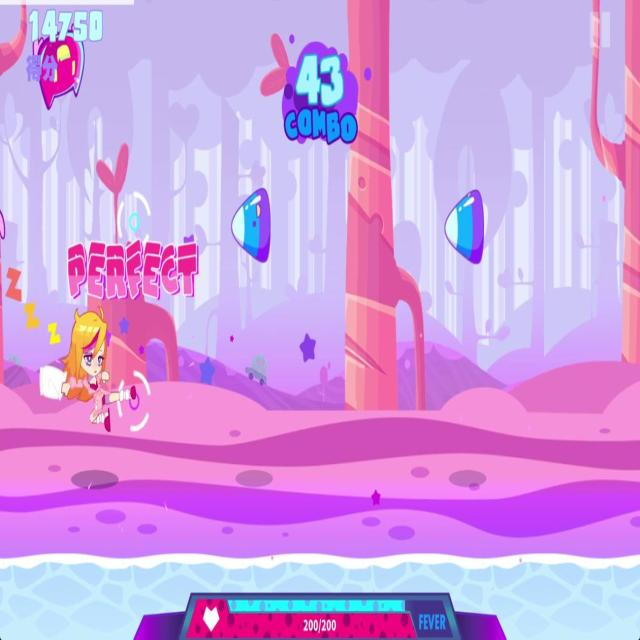jian: (228, 182, 275, 270), (442, 185, 489, 272)
mao: (30, 22, 90, 112)
